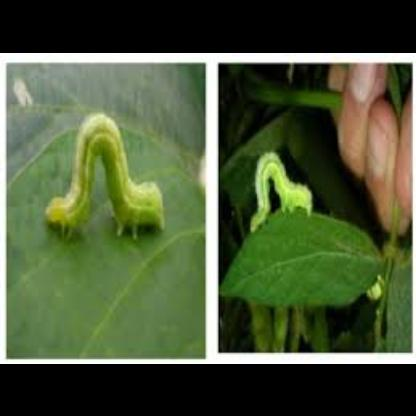oruga: (43, 113, 166, 247), (244, 144, 318, 232)
